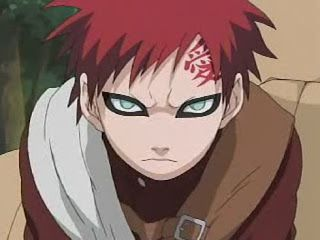gaara: (79, 33, 247, 186)
